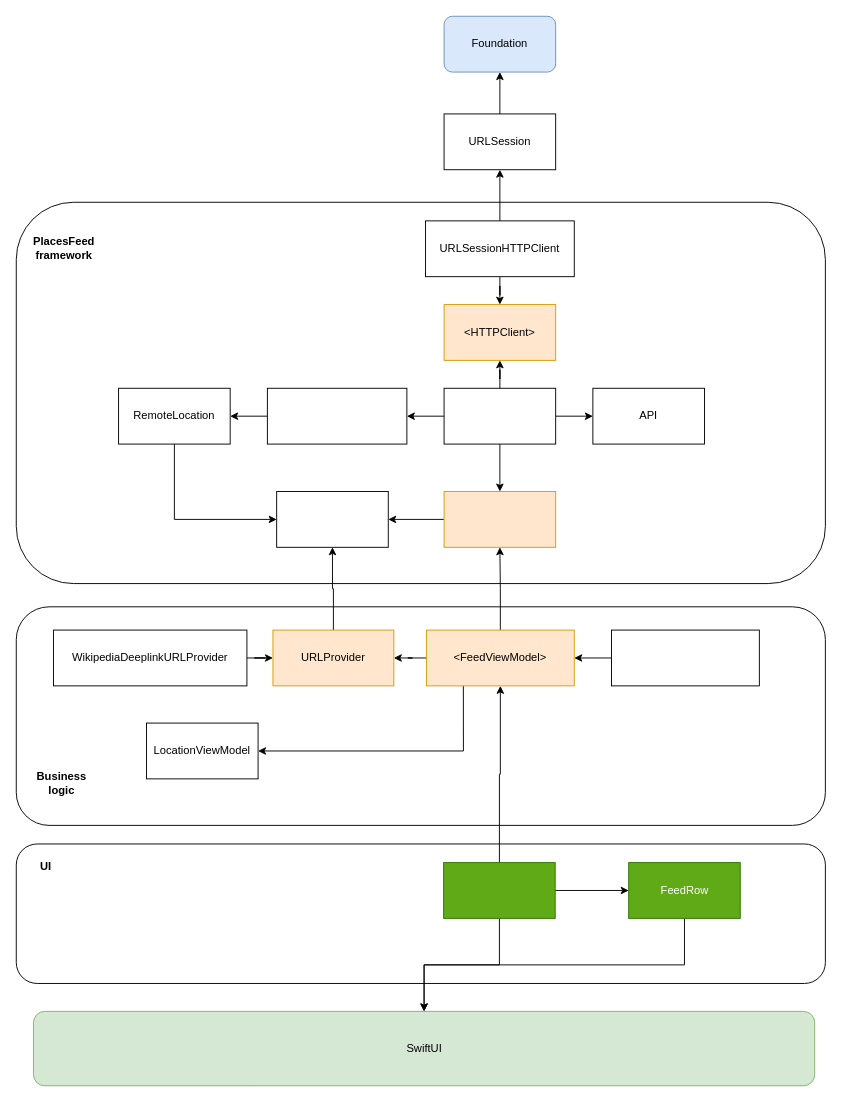
Some shapes in this 842 by 1102 pixel diagram are drawn without their labels. The shapes that lost their labels are listed below. From the top down, each one's centre as x and y in pixels, then its label:
At (336,415): "RemoteFeedItemMapper".
At (499,415): "RemoteFeedLoader".
At (332,519): "Location".
At (499,519): "<FeedLoader>".
At (685,657): "LocationFeedViewModel".
At (499,890): "FeedView".
